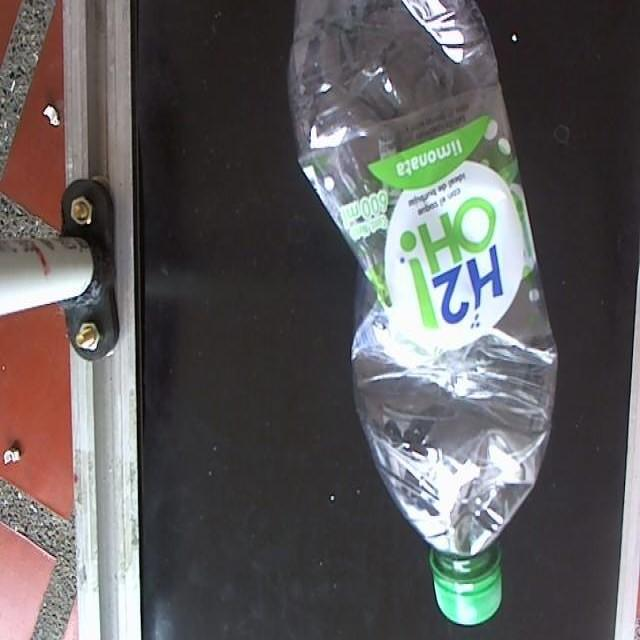defect: (283, 0, 563, 631)
